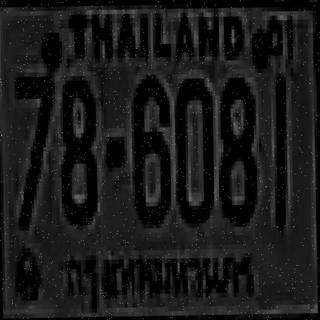N00: (174, 74, 212, 219)
N01: (270, 75, 286, 224), (272, 75, 286, 224)
N06: (130, 74, 168, 220)
N07: (14, 72, 52, 226), (14, 72, 51, 196)
N08: (58, 74, 96, 219), (217, 73, 255, 218)
P04: (61, 236, 259, 317)
